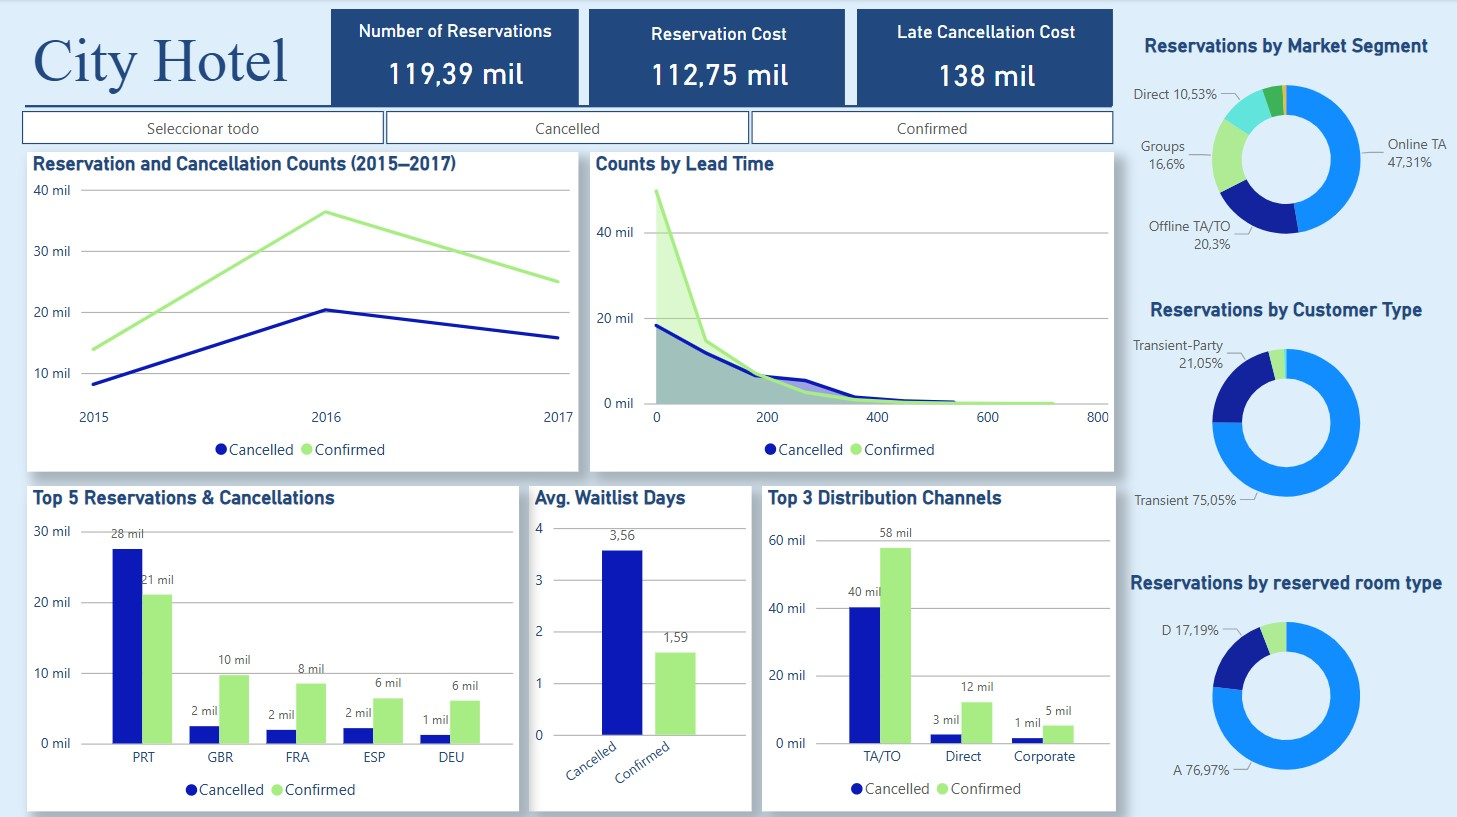

What the dashboard file says about the page in this screenshot:
{"tool":"powerbi","page":{"name":"Dashboard","canvas":[1280,720],"ordinal":0},"visuals":[{"type":"textbox","box":[25.1,17.8,246.2,79.6],"z":0},{"type":"shape","box":[291.4,9.1,216.8,84.8],"z":1000,"group":"g1"},{"type":"slicer","fields":{"Values":["hotel_bookings.is_canceled"]},"box":[0,91.1,996.1,42.9],"z":1000},{"type":"card","title":"Number of Reservations","fields":{"Values":["CountNonNull(hotel_bookings.is_canceled)"]},"box":[298.8,19,203.4,72],"z":2000,"group":"g1"},{"type":"lineChart","title":"Reservation and Cancellation Counts (2015–2017)","fields":{"Category":["hotel_bookings.arrival_date_year"],"Y":["CountNonNull(hotel_bookings.is_canceled)"],"Series":["hotel_bookings.is_canceled"]},"box":[25.1,134.1,482.9,279.7],"z":2000},{"type":"shape","box":[517.6,9.1,224.2,84.8],"z":3000,"group":"g1"},{"type":"areaChart","title":"Counts by Lead Time","fields":{"Category":["hotel_bookings.lead_time (bins)"],"Y":["CountNonNull(hotel_bookings.is_canceled)"],"Series":["hotel_bookings.is_canceled"]},"box":[518.2,133.8,459.3,279.6],"z":3000},{"type":"shape","box":[752.3,9.1,224.2,84.8],"z":4000,"group":"g1"},{"type":"columnChart","title":"Avg. Waitlist Days","fields":{"Y":["Avg(hotel_bookings.days_in_waiting_list)"],"Category":["hotel_bookings.is_canceled"]},"box":[465.1,426.3,194.8,284.9],"z":4000},{"type":"card","title":"Late Cancellation Cost","fields":{"Values":["hotel_bookings.Late_Cancellation_costs"]},"box":[762.4,19.9,205.2,73.8],"z":5000,"group":"g1"},{"type":"clusteredColumnChart","title":"Top 5 Reservations & Cancellations","fields":{"Category":["hotel_bookings.country"],"Y":["CountNonNull(hotel_bookings.is_canceled)"],"Series":["hotel_bookings.is_canceled"]},"box":[25.1,426.3,430.5,284.9],"z":5000},{"type":"card","title":"Reservation Cost","fields":{"Values":["hotel_bookings.Reservation_costs"]},"box":[517.6,21.7,227.7,69.3],"z":6000,"group":"g1"},{"type":"clusteredColumnChart","title":"Top 3 Distribution Channels","fields":{"Category":["hotel_bookings.distribution_channel"],"Y":["CountNonNull(hotel_bookings.is_canceled)"],"Series":["hotel_bookings.is_canceled"]},"box":[669,426.3,309.5,284.6],"z":6000},{"type":"donutChart","title":"Reservations by Market Segment","fields":{"Y":["CountNonNull(hotel_bookings.is_canceled)"],"Category":["hotel_bookings.market_segment"]},"box":[976.5,31,303.5,200.7],"z":7000},{"type":"donutChart","title":"Reservations by Customer Type","fields":{"Y":["CountNonNull(hotel_bookings.is_canceled)"],"Category":["hotel_bookings.customer_type"]},"box":[976.5,261.6,303.5,199.7],"z":8000},{"type":"shape","box":[23.4,88.3,952.3,12.6],"z":9000,"group":"g1"},{"type":"donutChart","title":"Reservations by reserved room type","fields":{"Category":["hotel_bookings.reserved_room_type"],"Y":["CountNonNull(hotel_bookings.is_canceled)"]},"box":[976.5,501.2,303.5,199.7],"z":9000},{"type":"group","id":"g1","title":"Grupo 1","box":[23.4,9.1,953,91.8],"z":10000}]}

Visuals, with their boxes in screenshot pixels (x1, y1, x2, y2), scaled from the page's 1280x720 canvas onto the 1457x817 screenshot:
textbox: crop(29, 20, 309, 111)
shape: crop(332, 10, 578, 107)
slicer - hotel_bookings.is_canceled: crop(0, 103, 1134, 152)
"Number of Reservations" card: crop(340, 22, 572, 103)
"Reservation and Cancellation Counts (2015–2017)" lineChart: crop(29, 152, 578, 470)
shape: crop(589, 10, 844, 107)
"Counts by Lead Time" areaChart: crop(590, 152, 1113, 469)
shape: crop(856, 10, 1112, 107)
"Avg. Waitlist Days" columnChart: crop(529, 484, 751, 807)
"Late Cancellation Cost" card: crop(868, 23, 1101, 106)
"Top 5 Reservations & Cancellations" clusteredColumnChart: crop(29, 484, 519, 807)
"Reservation Cost" card: crop(589, 25, 848, 103)
"Top 3 Distribution Channels" clusteredColumnChart: crop(762, 484, 1114, 807)
"Reservations by Market Segment" donutChart: crop(1112, 35, 1456, 263)
"Reservations by Customer Type" donutChart: crop(1112, 297, 1456, 523)
shape: crop(27, 100, 1111, 114)
"Reservations by reserved room type" donutChart: crop(1112, 569, 1456, 795)
"Grupo 1" group: crop(27, 10, 1111, 114)
